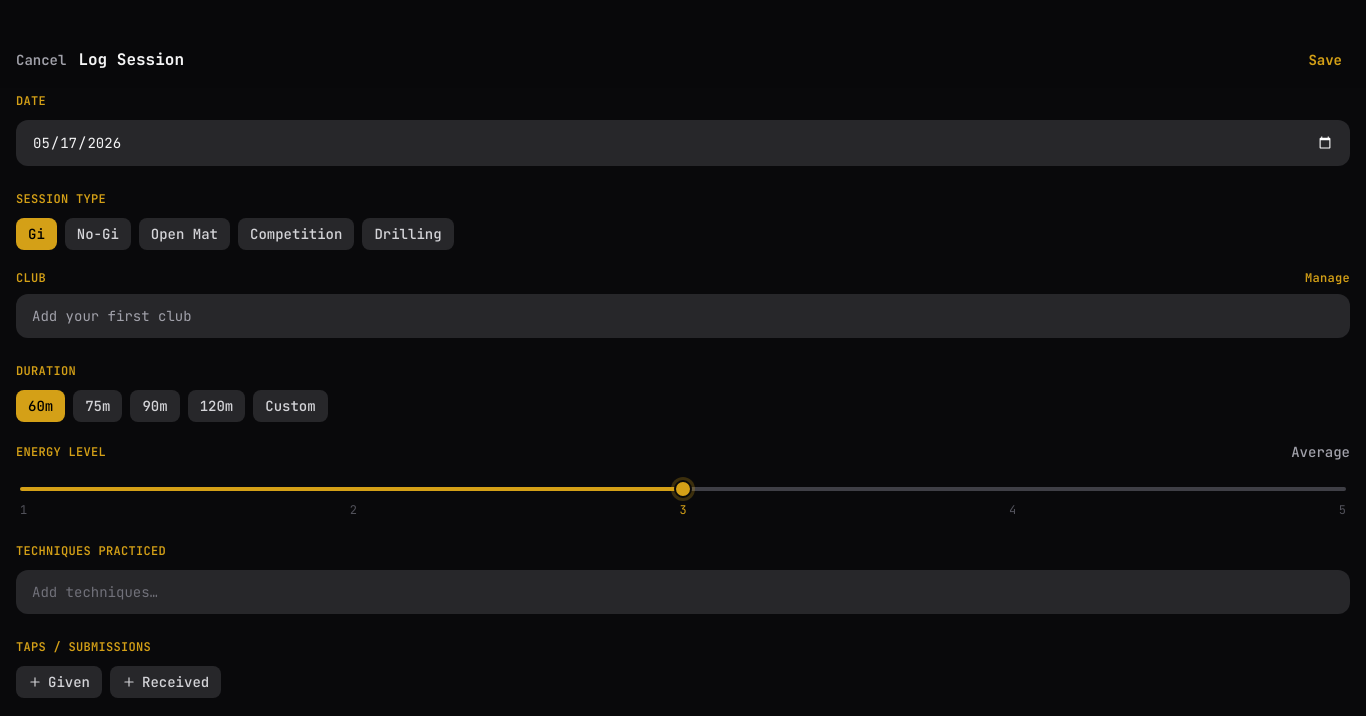
Test case: AddEditSessionPage — tap tracking › opens tap-given picker when clicking + Given
Click the button "Given". click: (59, 682)
box: x1=16 y1=666 x2=102 y2=698
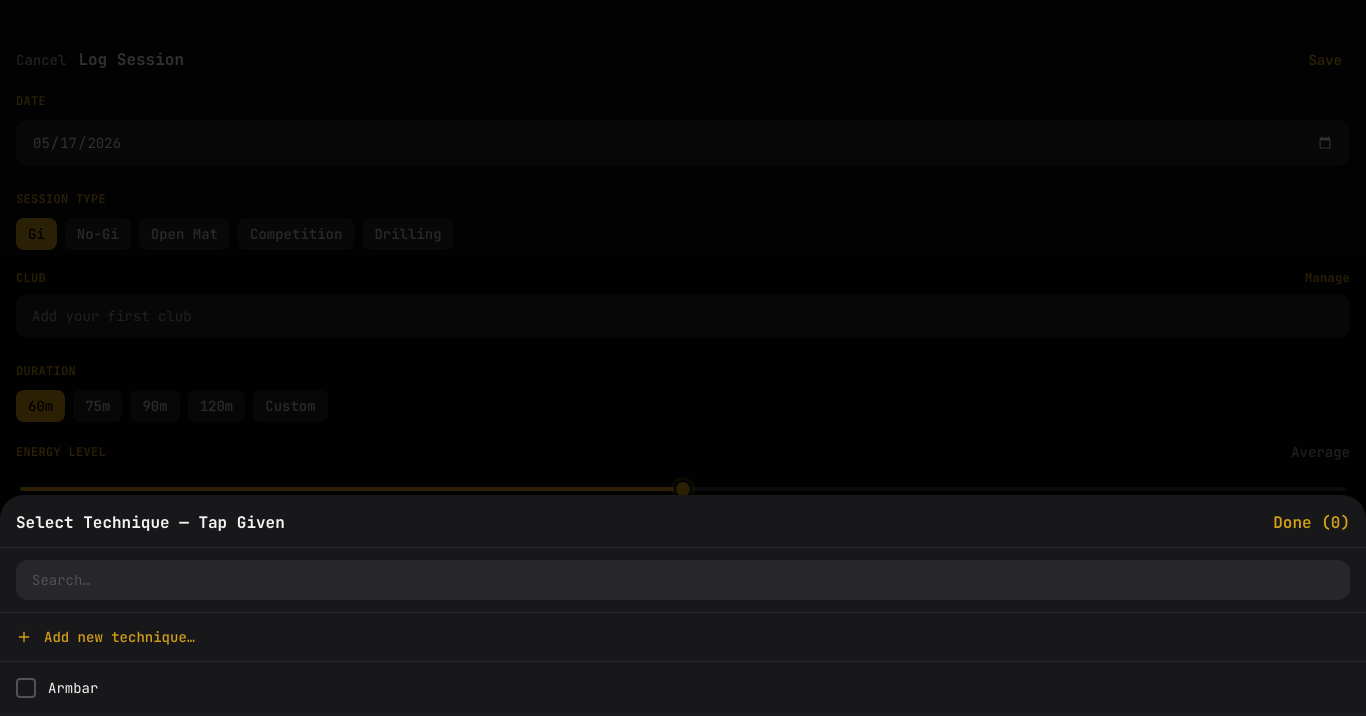
Check: the heading "Select Technique — Tap Given" is shown, box x1=16 y1=512 x2=285 y2=533
